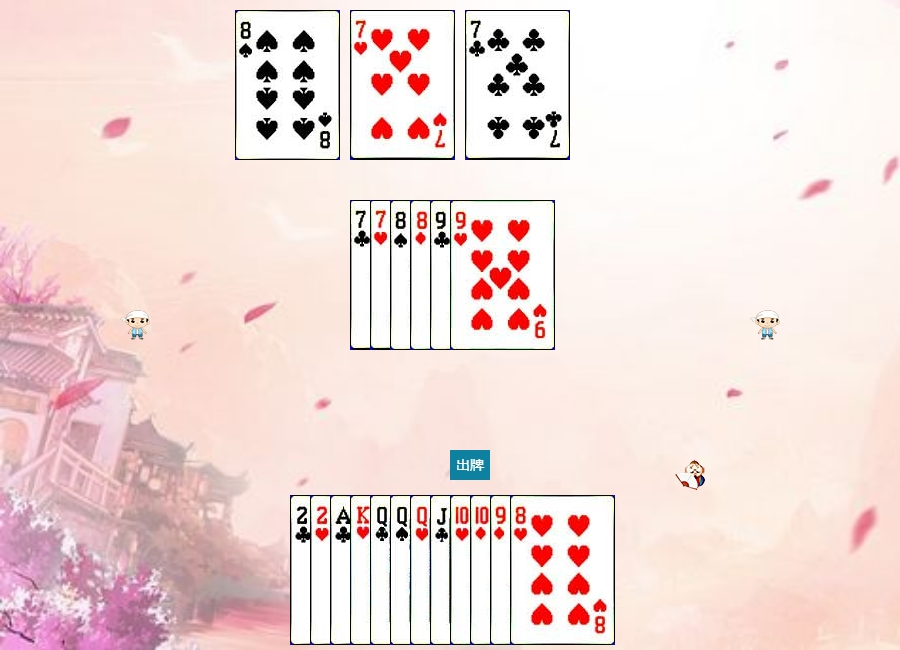10~1: (470, 495, 575, 645)
10~3: (450, 495, 555, 645)
11~2: (430, 495, 535, 645)
12~2: (370, 495, 475, 645)
12~3: (410, 495, 515, 645)
12~4: (390, 495, 495, 645)
13~3: (350, 495, 455, 645)
14~2: (330, 495, 435, 645)
15~2: (290, 495, 395, 645)
15~3: (310, 495, 415, 645)
7~2: (465, 10, 570, 160), (350, 200, 455, 350)
7~3: (350, 10, 455, 160), (370, 200, 475, 350)
8~1: (410, 200, 515, 350)
8~3: (510, 495, 615, 645)
8~4: (235, 10, 340, 160), (390, 200, 495, 350)
9~1: (490, 495, 595, 645)
9~2: (430, 200, 535, 350)
9~3: (450, 200, 555, 350)
